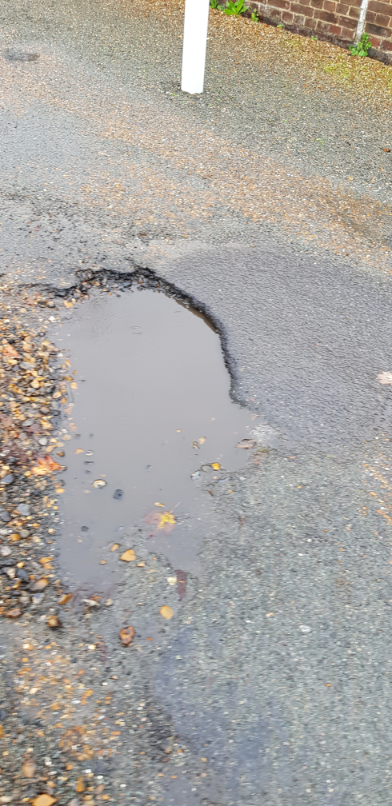pothole: (0, 259, 281, 621)
